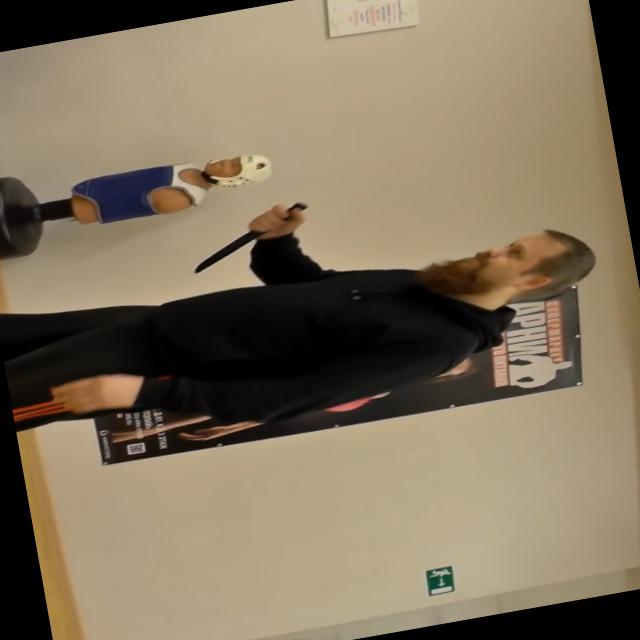knife: (181, 197, 319, 277)
